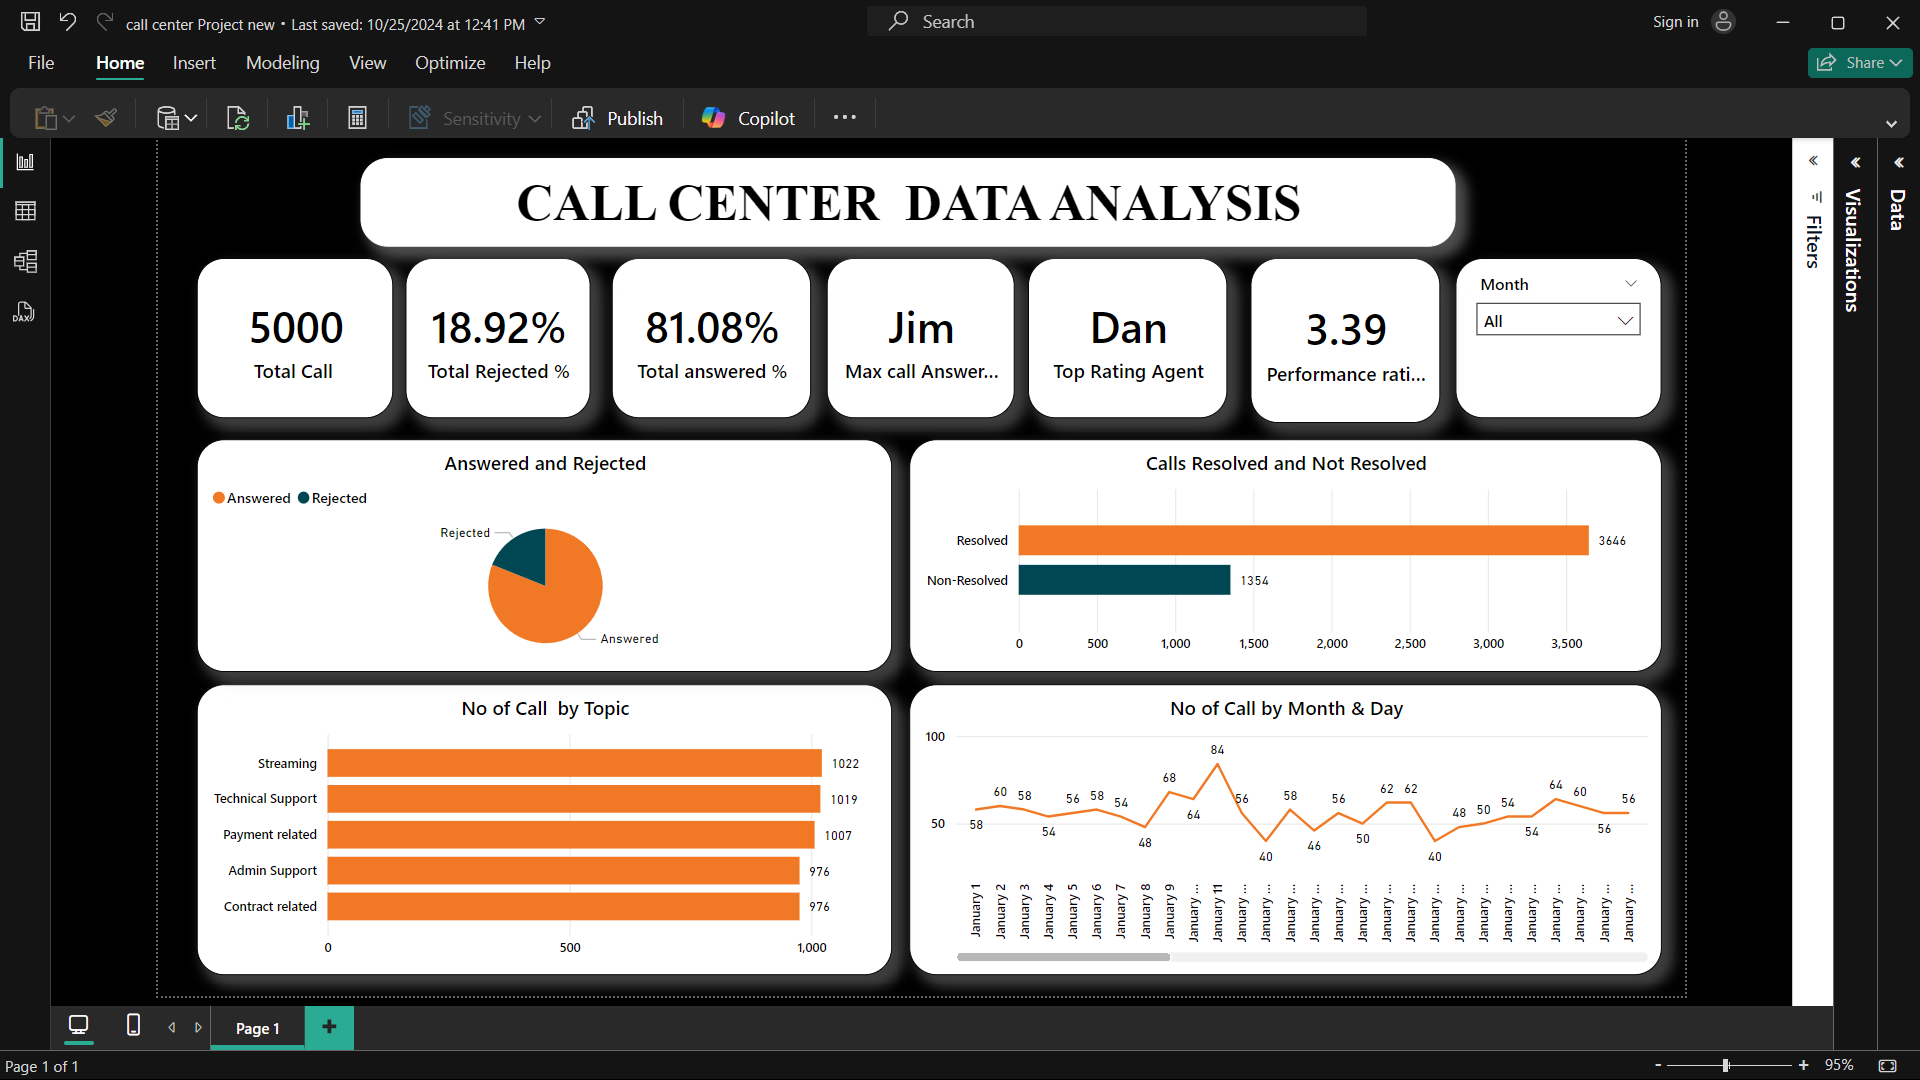

The page's visual inventory and layout, read from the dashboard file:
{"tool":"powerbi","page":{"name":"Page 1","canvas":[1280,720],"ordinal":0},"visuals":[{"type":"barChart","title":"Calls Resolved and Not Resolved","fields":{"Category":["Sheet1.Total solved"],"Y":["Sheet1.Resolved"]},"box":[629.8,252.5,631.2,194.9],"z":0},{"type":"lineChart","title":"No of Call by Month & Day","fields":{"Category":["Sheet1.Date.Variation.Date Hierarchy.Month","Sheet1.Date.Variation.Date Hierarchy.Day"],"Y":["Sheet1.Call Id"]},"box":[629.8,458.3,631.2,244.3],"z":1000},{"type":"barChart","fields":{"Y":["Sheet1.Call Id"],"Category":["Sheet1.Topic"]},"box":[32.9,458.3,583.2,244.3],"z":2000},{"type":"pieChart","fields":{"Y":["Sheet1.Answered","Sheet1.Rejected"]},"box":[32.9,252.5,583.2,194.9],"z":3000},{"type":"slicer","fields":{"Values":["Sheet1.Date.Variation.Date Hierarchy.Month"]},"box":[1088.2,100.2,172.9,134.5],"z":4000},{"type":"card","fields":{"Values":["Sheet1.Agent"]},"box":[561.2,100.2,157.8,134.5],"z":5000},{"type":"card","fields":{"Values":["Sheet1.Total answered"]},"box":[380.1,100.2,167.4,134.5],"z":6000},{"type":"card","fields":{"Values":["Sheet1.Call Id"]},"box":[32.9,100.2,164.7,134.5],"z":7000},{"type":"card","fields":{"Values":["Sheet1.Total answered"]},"box":[207.2,100.2,155.1,134.5],"z":8000},{"type":"card","fields":{"Values":["Sheet1.Top Agent by Satisfaction"]},"box":[730,100.2,167.4,134.5],"z":9000},{"type":"card","fields":{"Values":["Sheet1.per"]},"box":[916.6,100.2,159.2,138.6],"z":10000},{"type":"textbox","box":[100.2,100.2,385.6,39.8],"z":11000},{"type":"textbox","box":[170.2,16.5,918,74.1],"z":12000}]}

Visuals, with their boxes on the page's 1280x720 design canvas (x1, y1, x2, y2). These are canvas units, not pixel positions in the 1920x1080 screenshot, which may show the page scaled, cropped or inside an application window:
"Calls Resolved and Not Resolved" barChart: {"left": 630, "top": 252, "right": 1261, "bottom": 447}
"No of Call by Month & Day" lineChart: {"left": 630, "top": 458, "right": 1261, "bottom": 703}
barChart - Sheet1.Call Id x Sheet1.Topic: {"left": 33, "top": 458, "right": 616, "bottom": 703}
pieChart - Sheet1.Answered x Sheet1.Rejected: {"left": 33, "top": 252, "right": 616, "bottom": 447}
slicer - Sheet1.Date.Variation.Date Hierarchy.Month: {"left": 1088, "top": 100, "right": 1261, "bottom": 235}
card - Sheet1.Agent: {"left": 561, "top": 100, "right": 719, "bottom": 235}
card - Sheet1.Total answered: {"left": 380, "top": 100, "right": 548, "bottom": 235}
card - Sheet1.Call Id: {"left": 33, "top": 100, "right": 198, "bottom": 235}
card - Sheet1.Total answered: {"left": 207, "top": 100, "right": 362, "bottom": 235}
card - Sheet1.Top Agent by Satisfaction: {"left": 730, "top": 100, "right": 897, "bottom": 235}
card - Sheet1.per: {"left": 917, "top": 100, "right": 1076, "bottom": 239}
textbox: {"left": 100, "top": 100, "right": 486, "bottom": 140}
textbox: {"left": 170, "top": 16, "right": 1088, "bottom": 91}
